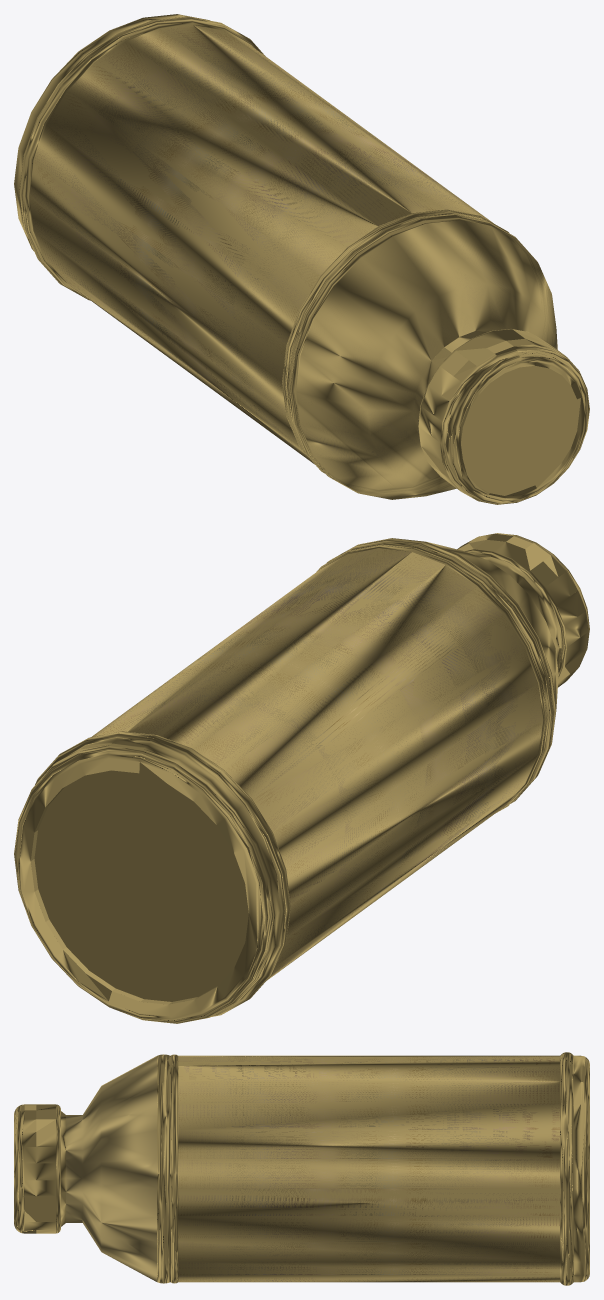
Rendered from model_align.obj.
3 views of the same model, one above another, from view 1: azimuth 30°, elevation 25°; view 2: azimuth 150°, elevation 25°; view 3: azimuth 270°, elevation 25° (orthographic). The views are drawn at different scales.
Size of the model in its own units: 0.0752 by 0.0752 by 0.1847.
